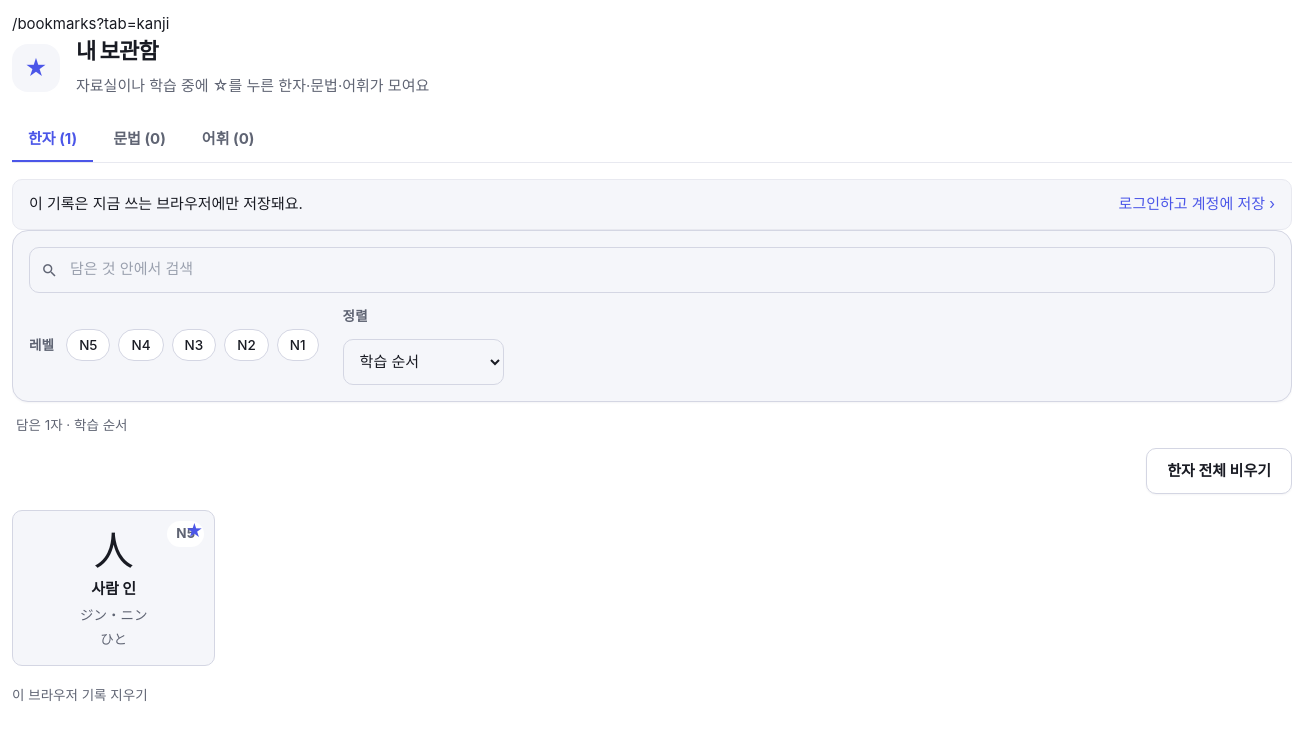
Test: BookmarksPage — 목록 · 빼기 (AC-B-18·19·22) › ★를 누르면 그 자리에 되돌리기 자리표시자가 남는다 (토스트 없음)
Click the button named "人".
click(194, 531)  # box x1=178 y1=515 x2=210 y2=547
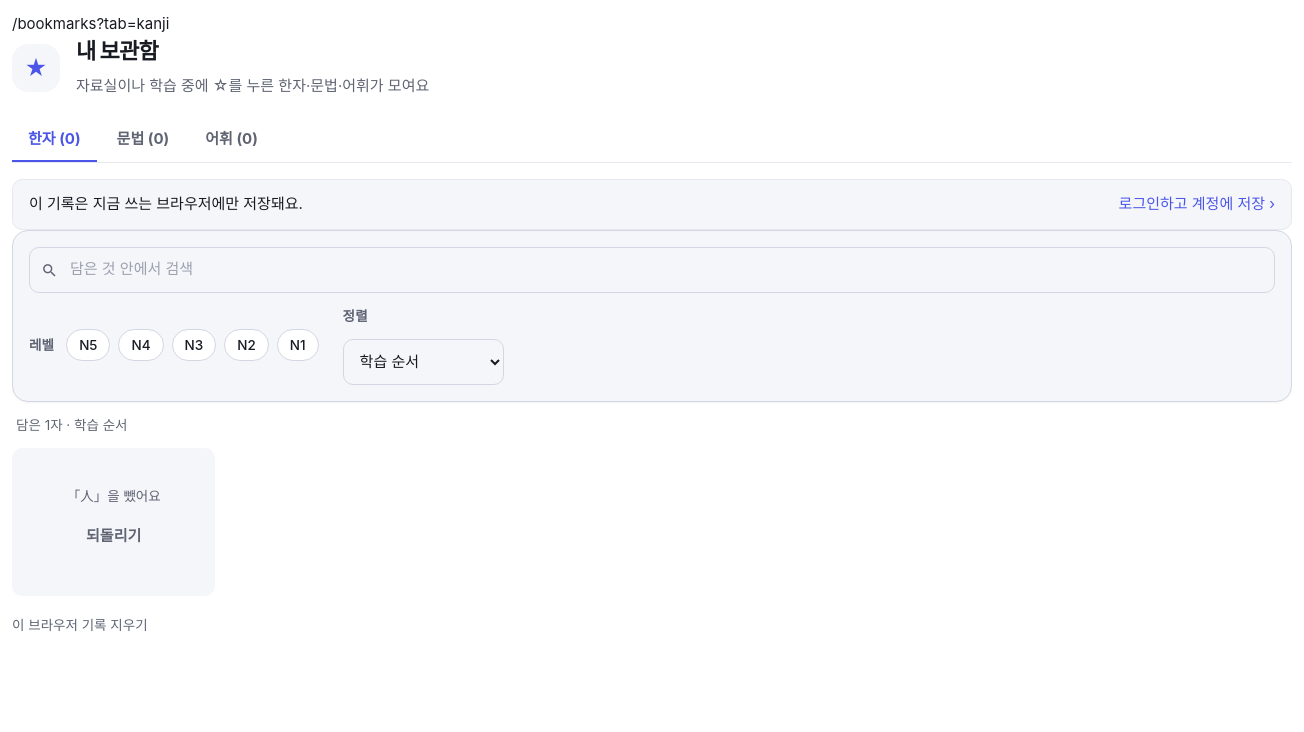
Result: the text "「人」을 뺐어요" is shown at x1=67 y1=485 x2=161 y2=507
Result: the button "되돌리기" is shown at x1=65 y1=513 x2=162 y2=559
